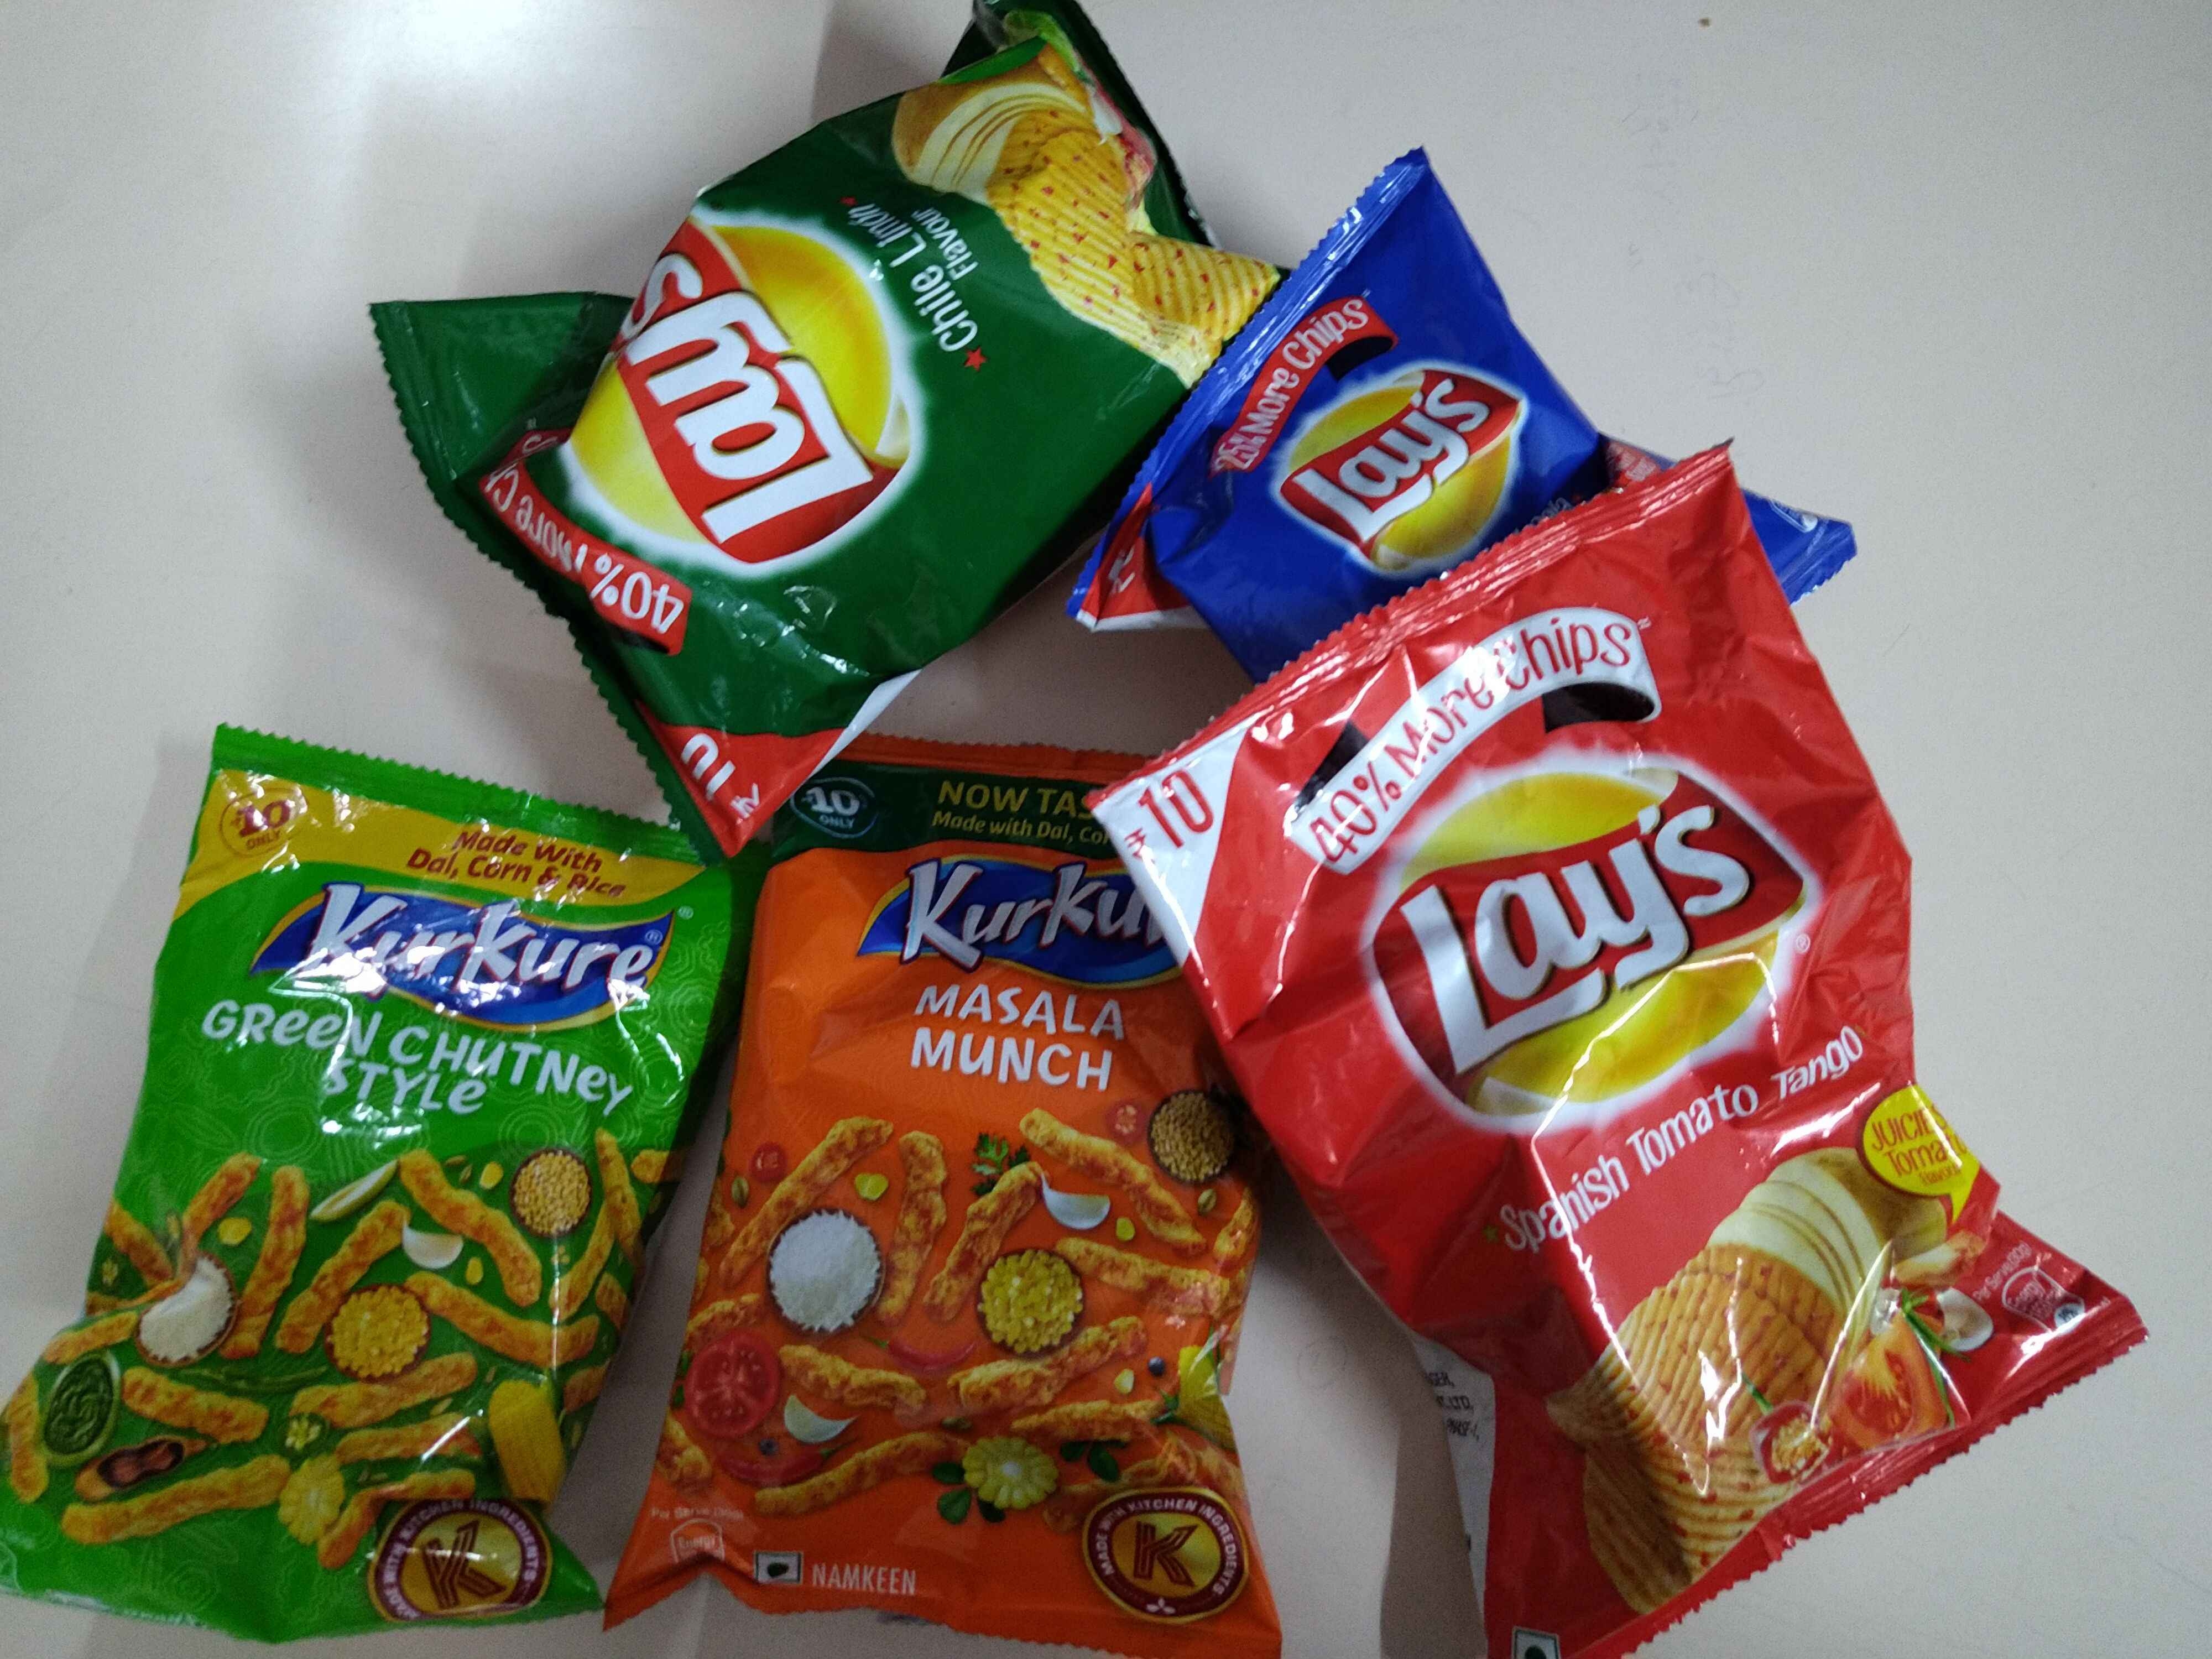Lays: (1369, 744, 1834, 1168), (542, 209, 948, 565), (1264, 352, 1533, 610)
kurkure: (239, 882, 705, 1002), (836, 849, 1198, 979)
